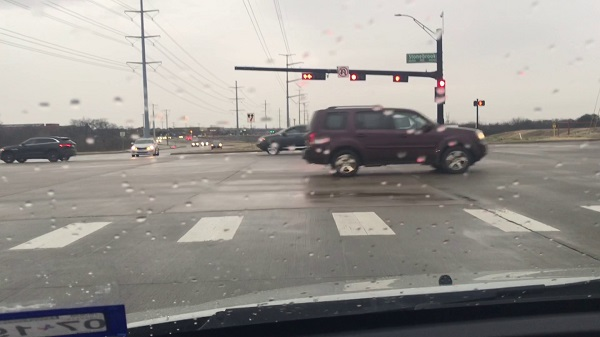car: (305, 107, 489, 175), (2, 136, 76, 163), (257, 125, 308, 156), (129, 136, 159, 156)
